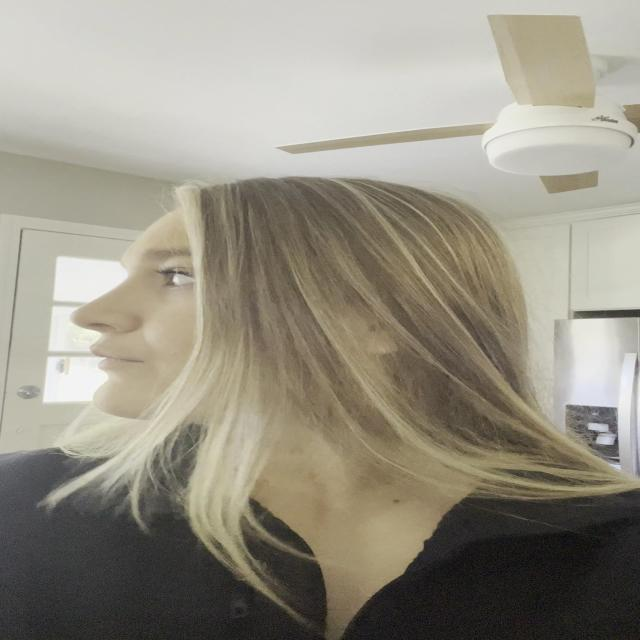no-helmet: (68, 205, 210, 424)
